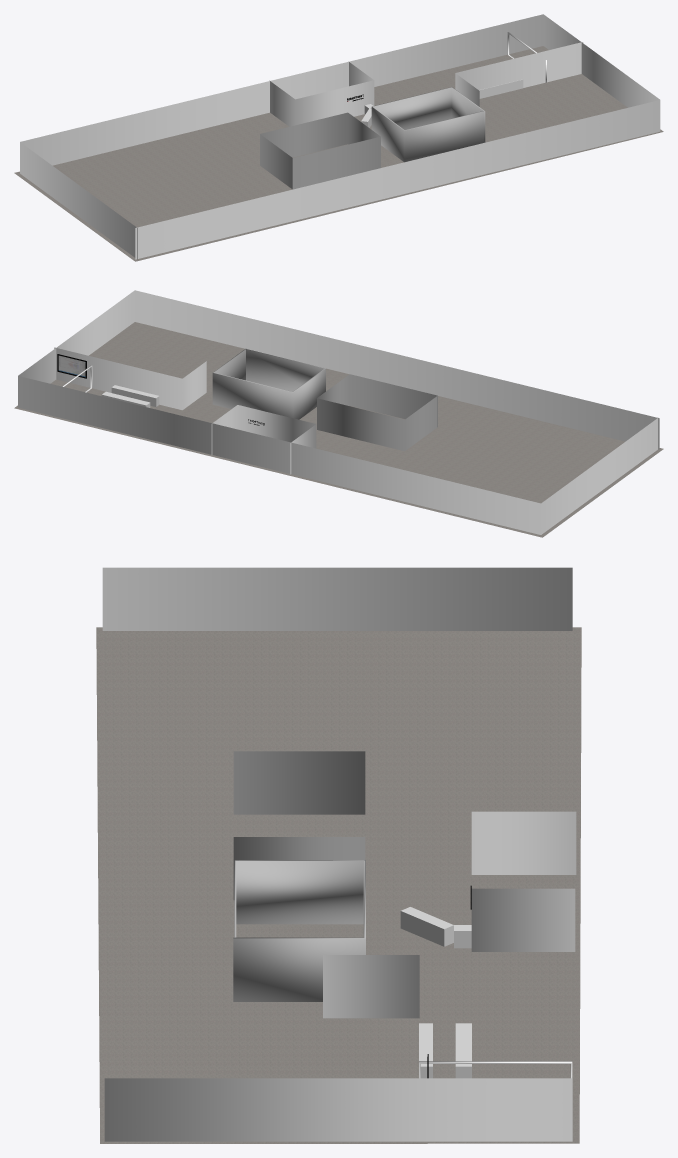
The picture shows the model from 3 angles, top to bottom: view 1: azimuth 30°, elevation 25°; view 2: azimuth 150°, elevation 25°; view 3: azimuth 270°, elevation 25°; orthographic projection. The views are drawn at different scales.
Parts seen in each view (by area): view 1: Wall, floor, Wall.003, Wall.004, Wall.002, Wall.001, FifthSink; view 2: Wall, floor, Wall.003, Wall.004, Wall.002, Wall.001, Cube, FifthSink; view 3: floor, Wall, Wall.004, Wall.001, Wall.003, Wall.002, FrontDesk2, FifthBar.
Part boxes in pixels (left/top/right/bottom): Wall: left=20, top=14, right=660, bottom=259; floor: left=14, top=46, right=663, bottom=261; Wall.003: left=260, top=112, right=380, bottom=189; Wall.004: left=371, top=87, right=485, bottom=162; Wall.002: left=455, top=42, right=583, bottom=106; Wall.001: left=269, top=62, right=374, bottom=126; FifthSink: left=479, top=79, right=523, bottom=98; Wall: left=18, top=290, right=659, bottom=534; floor: left=14, top=322, right=663, bottom=537; Wall.003: left=317, top=374, right=437, bottom=451; Wall.004: left=212, top=348, right=325, bottom=419; Wall.002: left=54, top=347, right=206, bottom=410; Wall.001: left=211, top=405, right=316, bottom=474; Cube: left=57, top=354, right=86, bottom=378; FifthSink: left=111, top=385, right=159, bottom=406; floor: left=96, top=627, right=581, bottom=1143; Wall: left=102, top=567, right=572, bottom=1141; Wall.004: left=233, top=860, right=365, bottom=1001; Wall.001: left=471, top=811, right=576, bottom=951; Wall.003: left=233, top=751, right=365, bottom=899; Wall.002: left=323, top=955, right=419, bottom=1018; FrontDesk2: left=400, top=907, right=453, bottom=946; FifthBar: left=455, top=1023, right=471, bottom=1078.
Size of the model in its own units: 62.97 by 3.66 by 25.
Materials: 15 (2 with a texture image).
